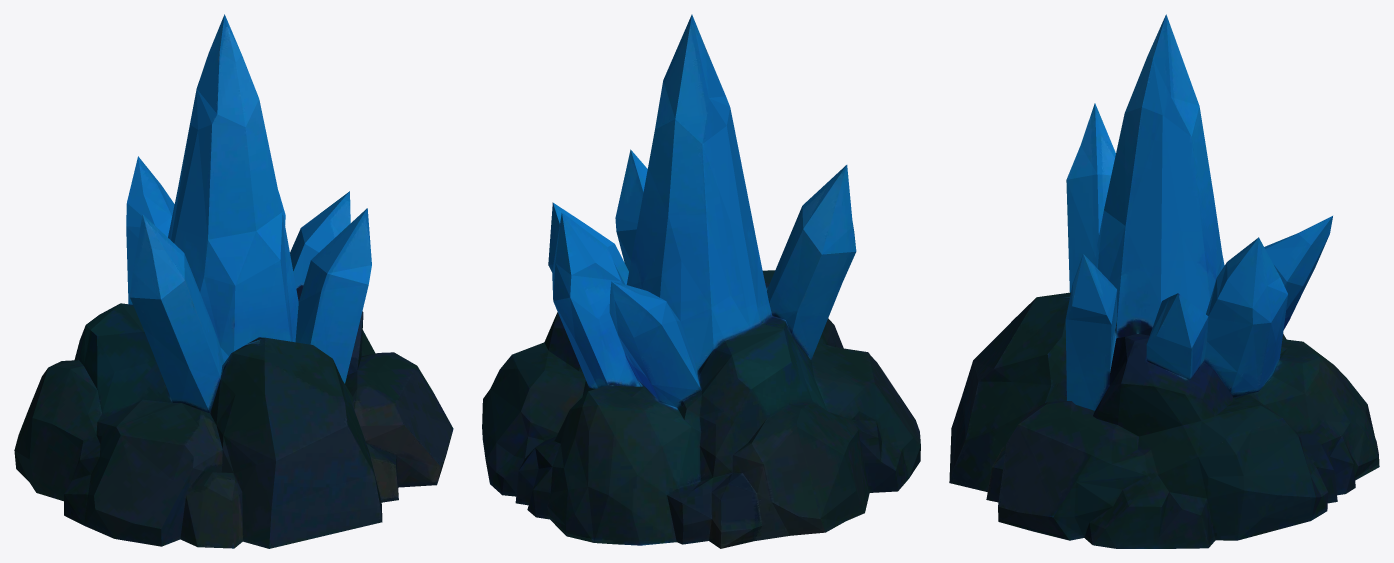
File: crystal_cluster_29.glb
3 views of the same model, side by side, from view 1: azimuth 30°, elevation 25°; view 2: azimuth 150°, elevation 25°; view 3: azimuth 270°, elevation 25° (orthographic).
Bounding box in the file's own units: 1.72 × 1.98 × 1.74.
1 material, 1 textured.
